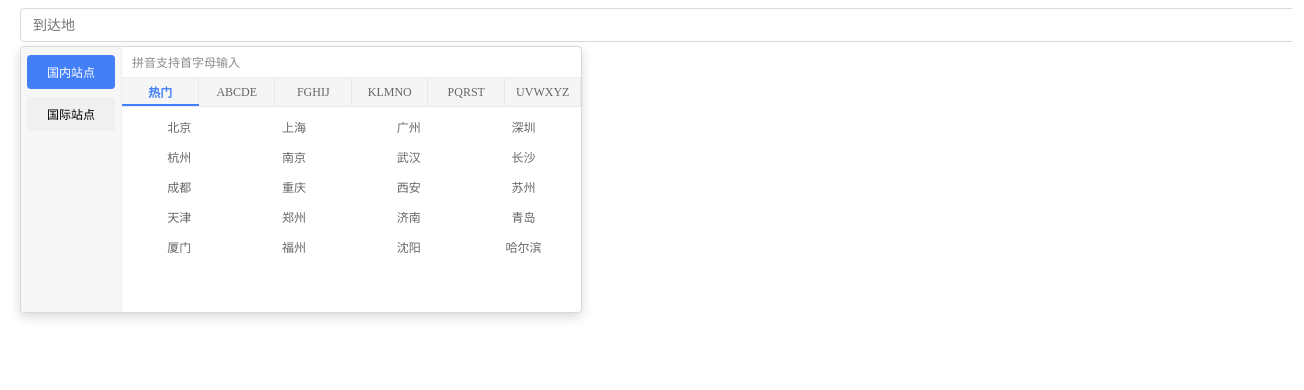
Test: Given 点击“ABCDE”按钮 When 切换 Then 显示A-E分组及对应站点按字典序排序
The width and height of the screenshot is (1304, 390).
Click the field with placeholder "到达地" at (656, 25), box [20,8,1292,42]
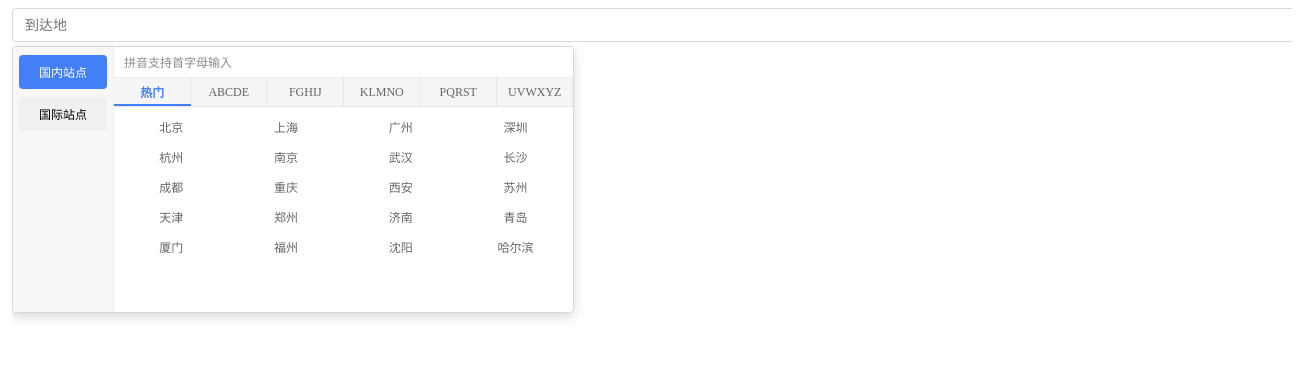
Click the text "ABCDE" at (229, 92), box [190,78,267,106]
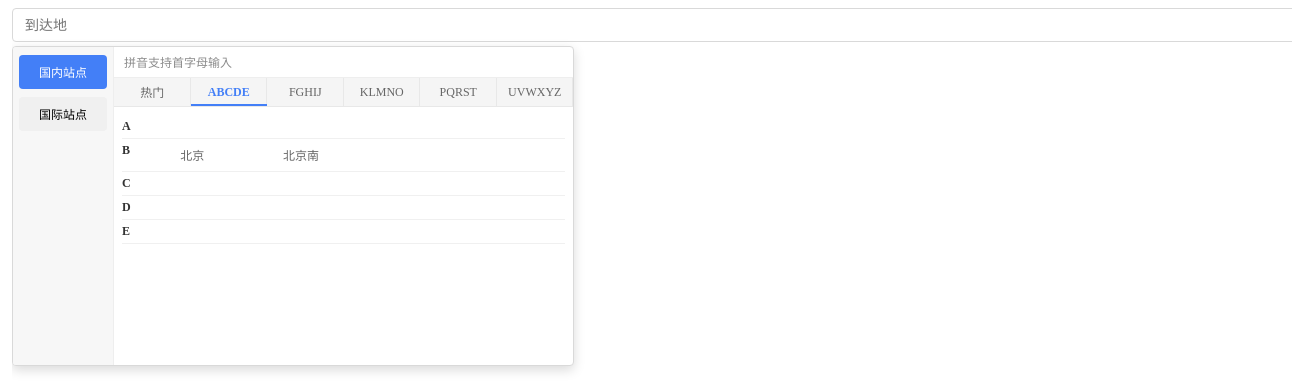
Result: the text "A" is shown at [122,119,131,133]
Result: the text "B" is shown at [122,143,130,157]
Result: the text "C" is shown at [122,176,131,190]
